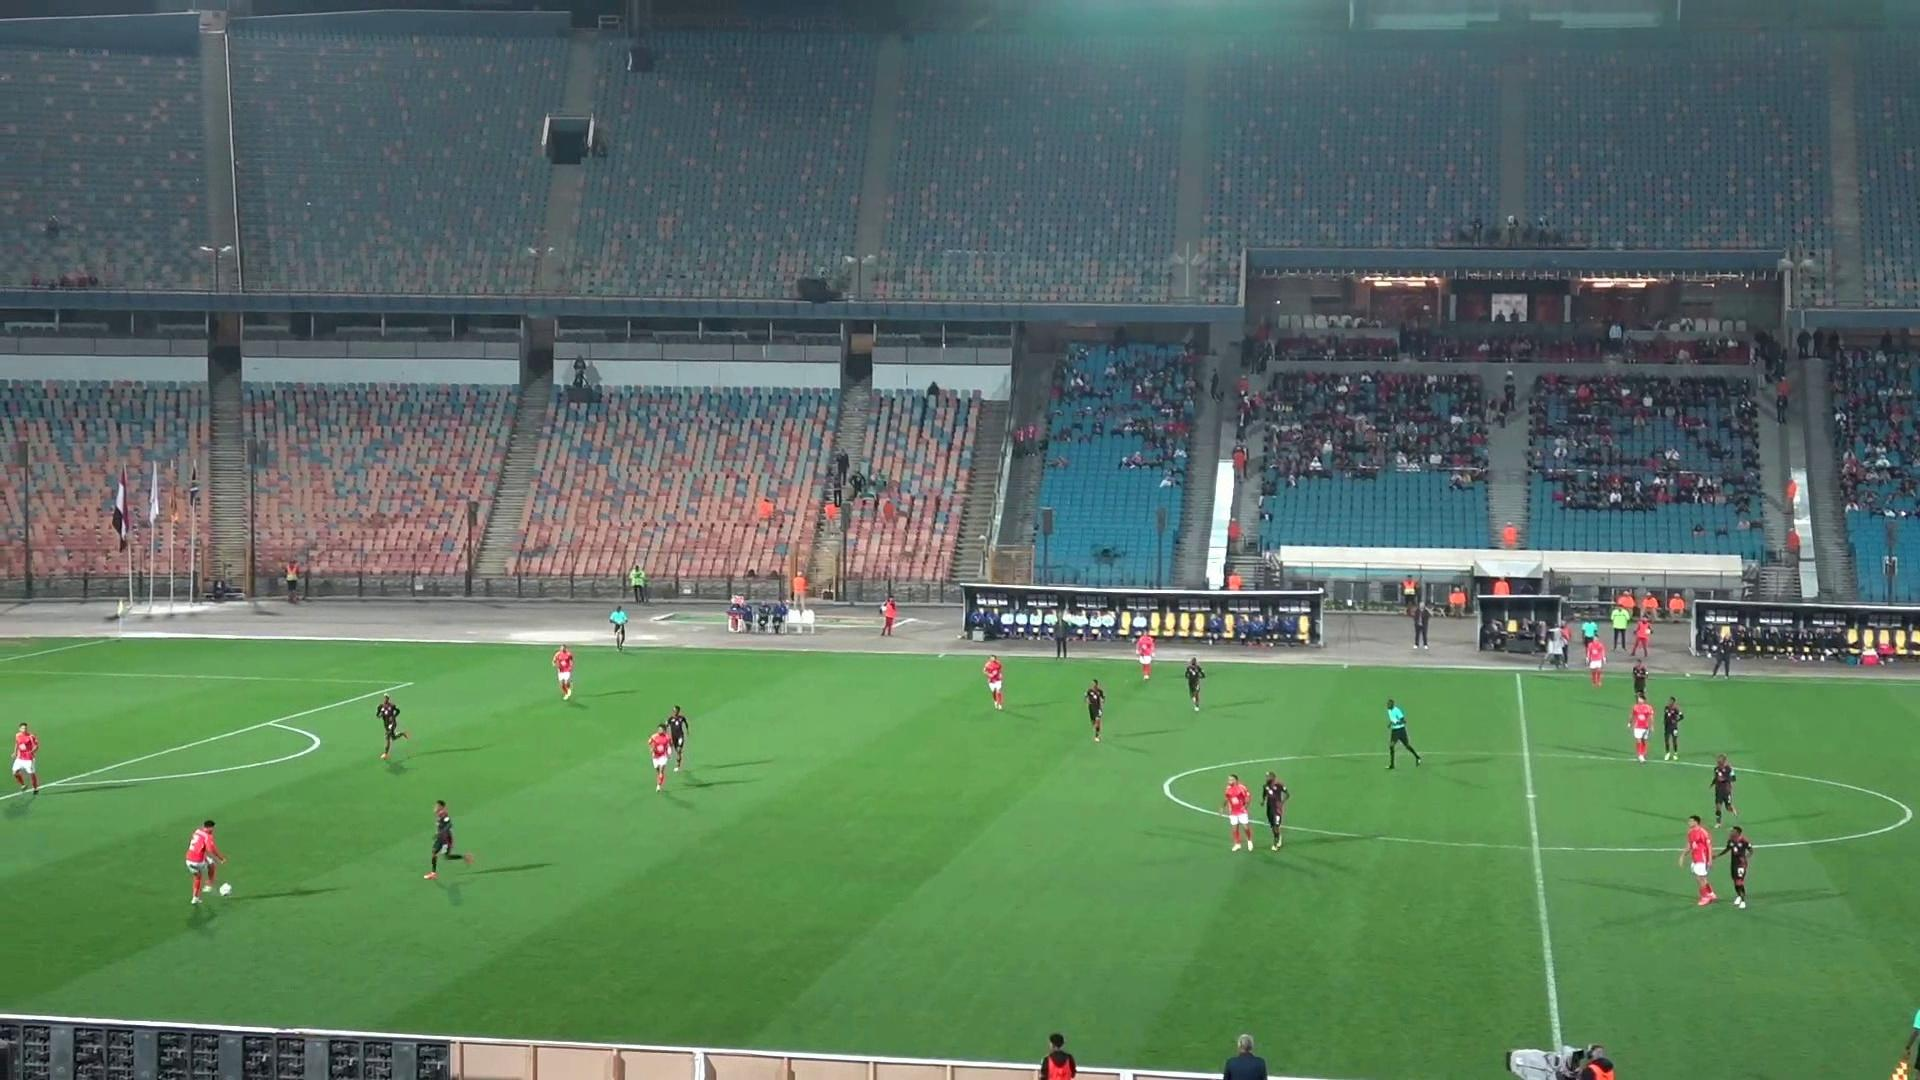Ball: (216, 878, 232, 898)
Refree: (1385, 698, 1422, 769), (1888, 1010, 1919, 1079), (608, 605, 628, 651)
Team1: (185, 820, 229, 903), (1683, 815, 1717, 905), (1222, 774, 1253, 851), (11, 723, 40, 794), (1630, 694, 1654, 761), (649, 723, 673, 790), (553, 645, 574, 700), (1585, 632, 1606, 686), (985, 655, 1004, 709), (1135, 628, 1155, 678)
Team2: (425, 800, 472, 880), (1724, 825, 1753, 907), (1261, 771, 1288, 851), (375, 694, 407, 760), (1712, 753, 1737, 824), (665, 705, 688, 770), (1660, 698, 1684, 760), (1084, 680, 1104, 742), (1184, 657, 1207, 711), (1633, 655, 1647, 702)
